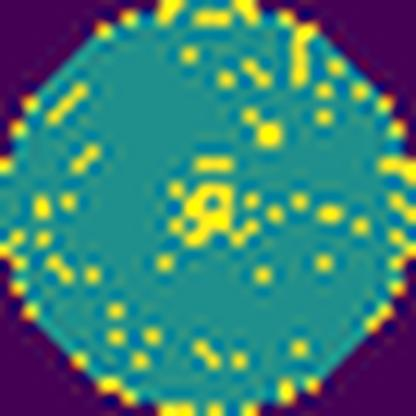Center: (162, 174, 262, 249)
